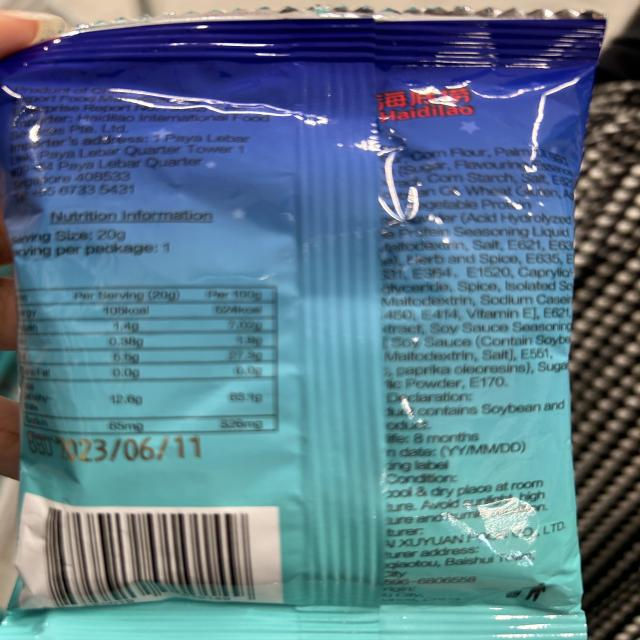object_name: (28, 48, 567, 634)
